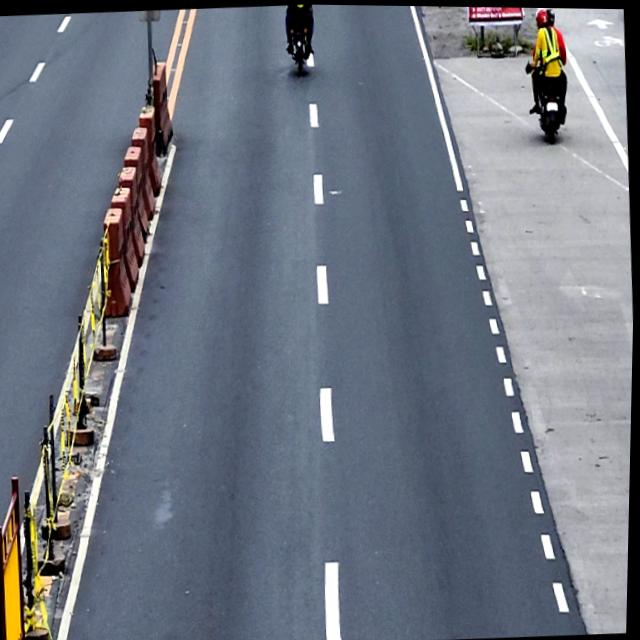License-Plate: (546, 99, 559, 111)
Motorcycle: (532, 35, 570, 145), (285, 3, 315, 78)
